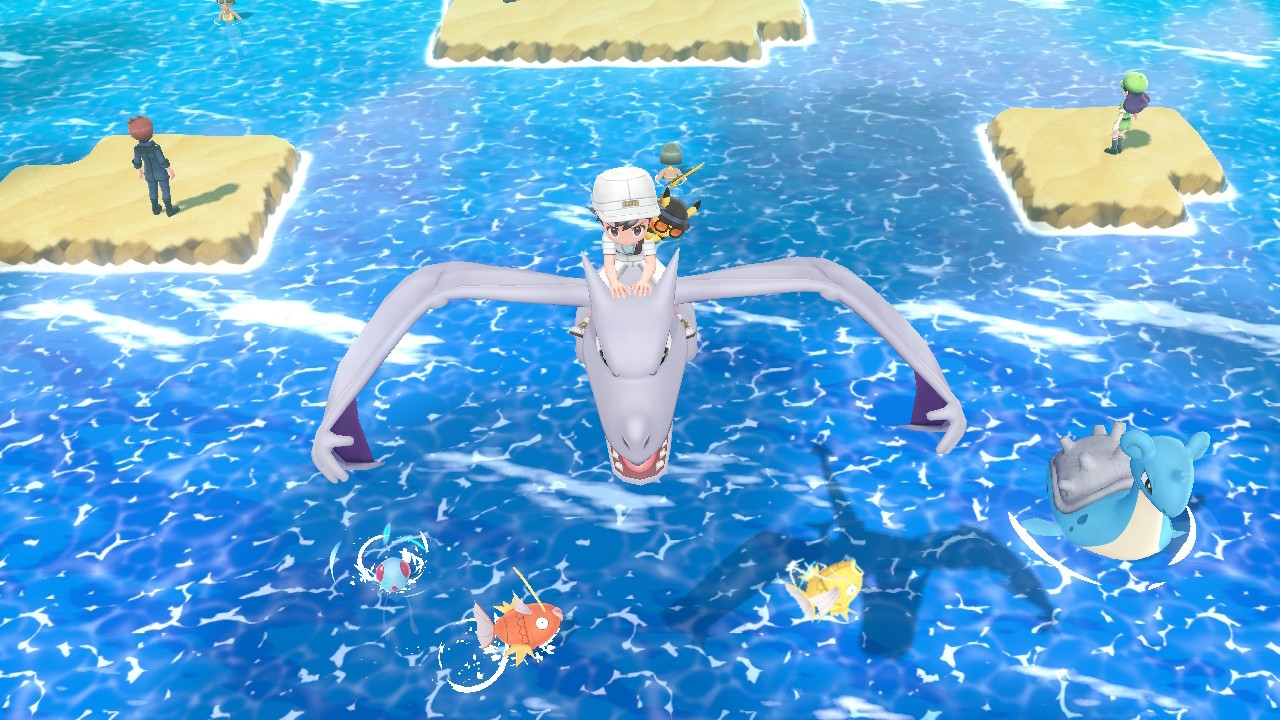Golden: (788, 557, 865, 627)
